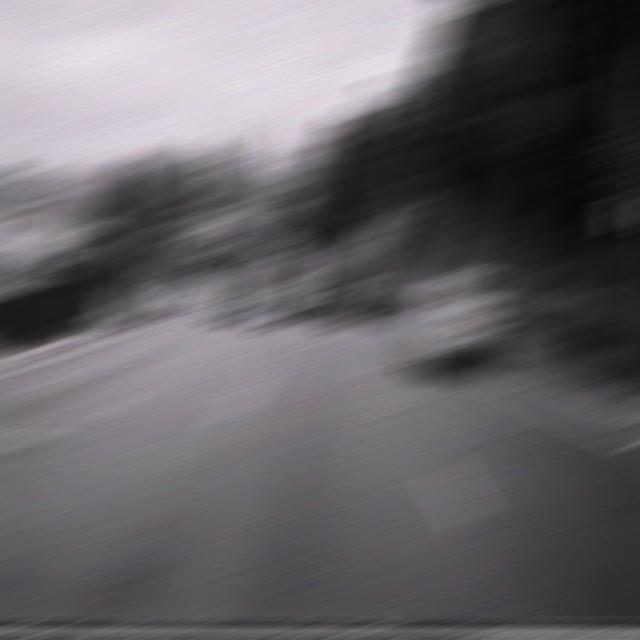pedestrianCrossing: (328, 252, 358, 270)
